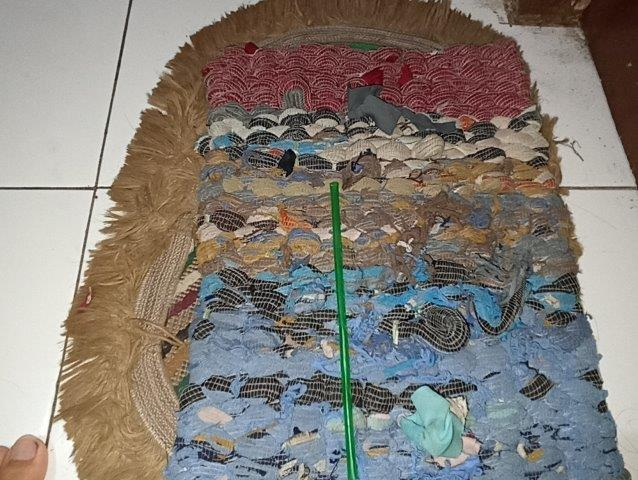sedotan: (330, 182, 358, 480)
